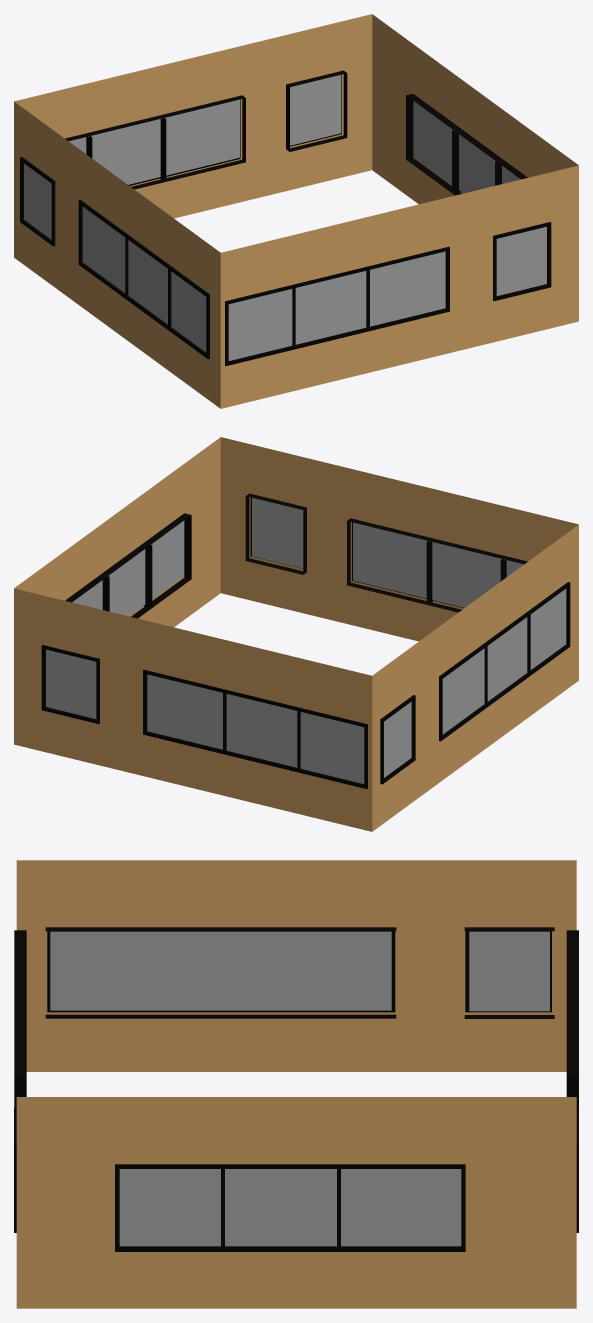
The model's file is Prop_HouseMiddle_02.FBX.
3 renders of one model, top to bottom at view 1: azimuth 30°, elevation 25°; view 2: azimuth 150°, elevation 25°; view 3: azimuth 270°, elevation 25°, orthographic. The views are drawn at different scales.
Visible parts, largest first — view 1: Prop_HouseMiddle_02; view 2: Prop_HouseMiddle_02; view 3: Prop_HouseMiddle_02.
Boxes of the visible parts, box(x1,y1,x2,y2) form: Prop_HouseMiddle_02: box(14, 14, 578, 408); Prop_HouseMiddle_02: box(14, 437, 578, 831); Prop_HouseMiddle_02: box(14, 860, 578, 1308).
Bounding box in the file's own units: 238 × 98.43 × 238.
